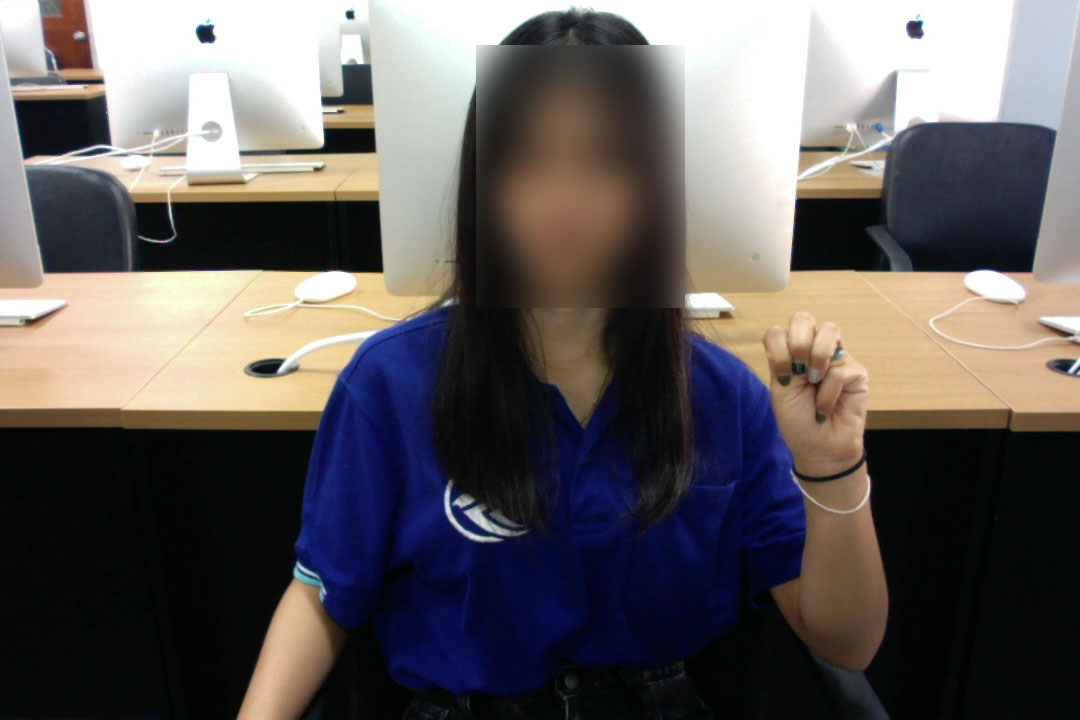mor: (754, 304, 883, 475)
